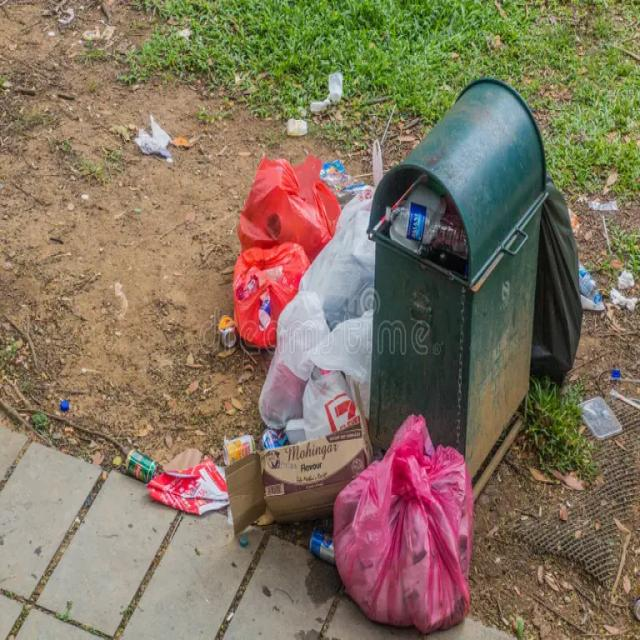bin_full: (380, 123, 544, 470)
bulk_waste: (231, 424, 364, 540)
normal_waste: (262, 196, 376, 420), (344, 439, 464, 630), (532, 200, 582, 399), (244, 155, 330, 258), (232, 252, 304, 347), (142, 455, 231, 512), (286, 66, 344, 152), (130, 111, 170, 168), (576, 399, 630, 436), (610, 253, 637, 318), (576, 262, 608, 313), (125, 443, 157, 482), (584, 188, 628, 208), (612, 364, 626, 386)
